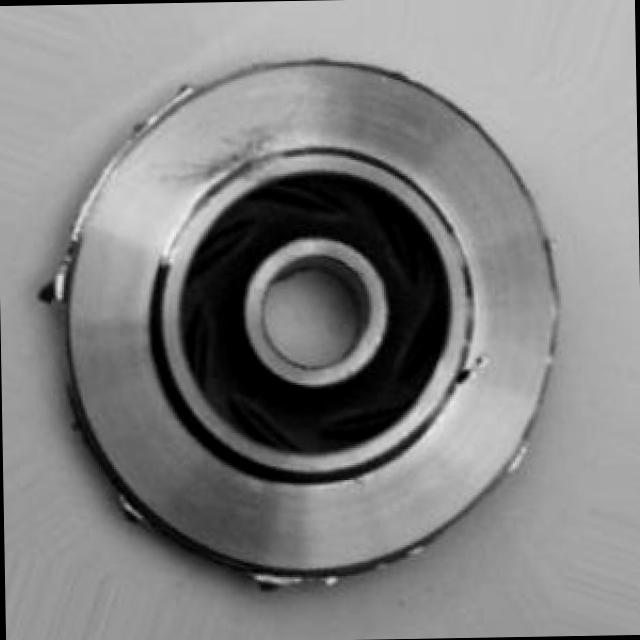Defect: (448, 358, 484, 393)
